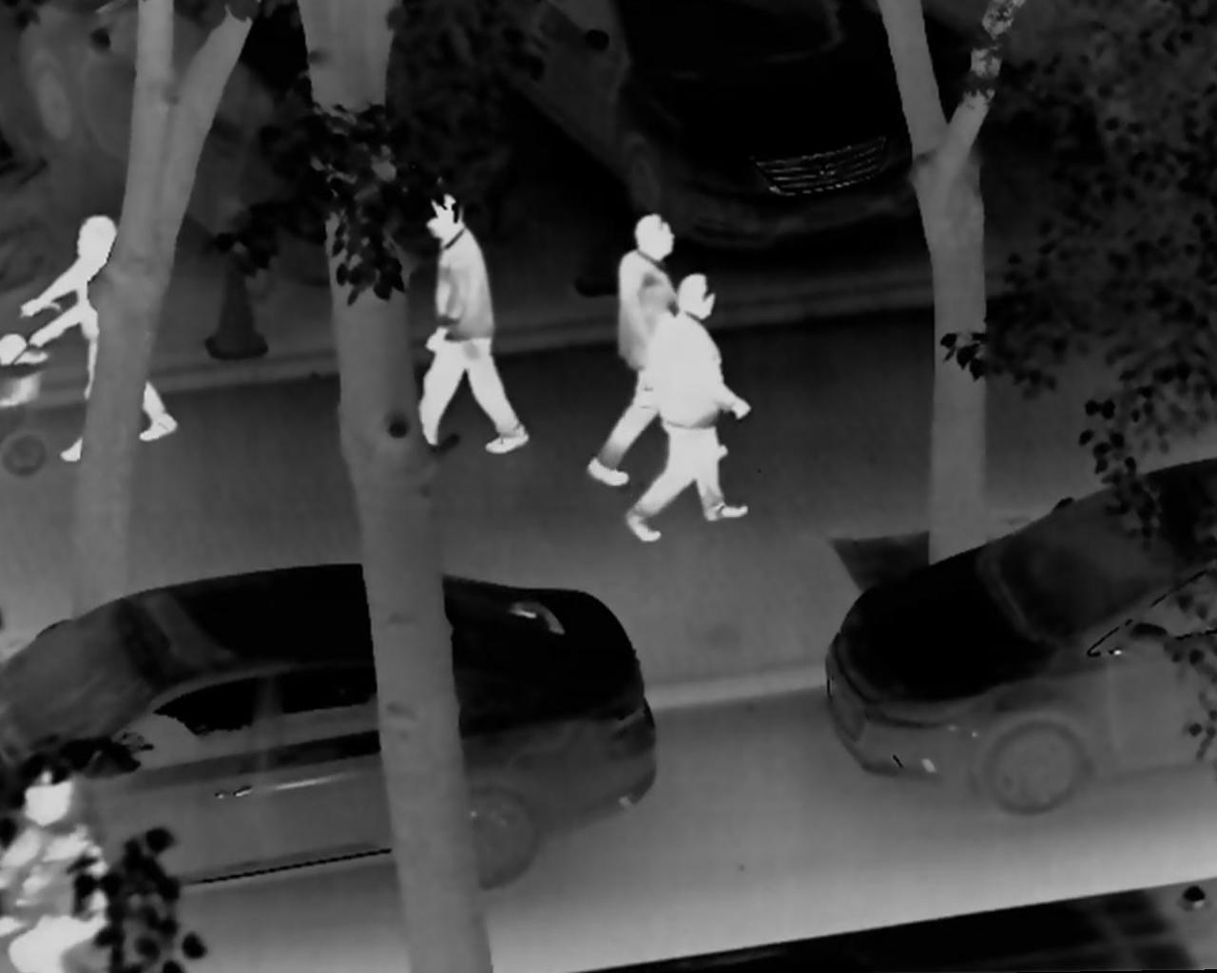person: (16, 206, 181, 481), (585, 209, 732, 489), (394, 185, 532, 467), (621, 270, 757, 546)
